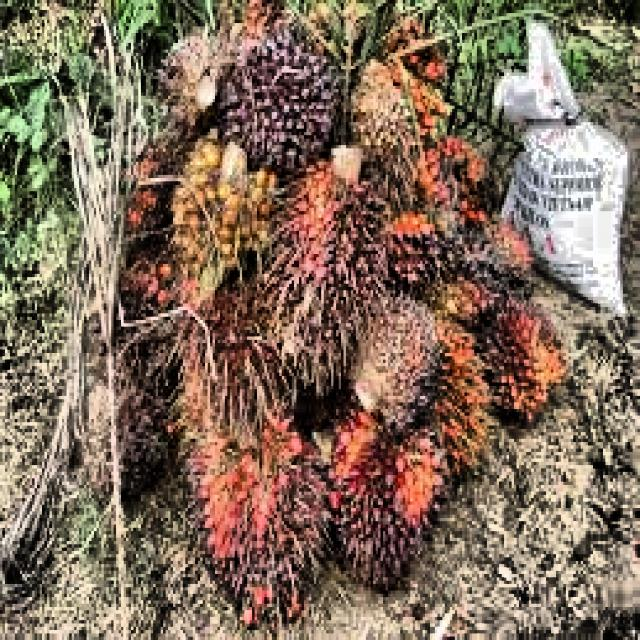FFB: (187, 418, 326, 632), (273, 150, 392, 373), (324, 417, 457, 581), (171, 290, 297, 430), (168, 146, 281, 292), (78, 357, 182, 501), (214, 47, 340, 164), (348, 302, 450, 426), (97, 236, 184, 375), (158, 25, 255, 143), (483, 302, 569, 422), (116, 139, 189, 227), (443, 334, 477, 493), (350, 61, 406, 150)
